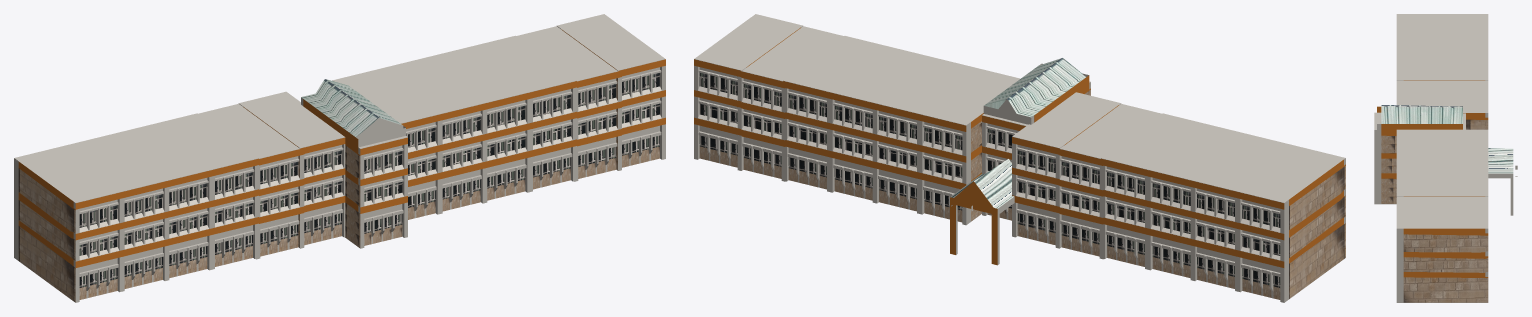
The model's file is electrical.fbx.
3 views of the same model, side by side, from view 1: azimuth 30°, elevation 25°; view 2: azimuth 150°, elevation 25°; view 3: azimuth 270°, elevation 25° (orthographic). The views are drawn at different scales.
Visible parts, largest first — view 1: box.000, box.005, box.006; view 2: box.000, box.005, box.006; view 3: box.005, box.000, box.006.
Boxes of the visible parts, box(x1,y1,x2,y2) form: box.000: box(14, 91, 345, 302); box.005: box(332, 14, 665, 219); box.006: box(301, 79, 407, 248); box.000: box(1012, 92, 1345, 302); box.005: box(694, 14, 1020, 225); box.006: box(950, 58, 1090, 265); box.005: box(1396, 129, 1488, 302); box.000: box(1396, 14, 1488, 129); box.006: box(1374, 105, 1517, 215).
Bounding box in the file's own units: 4957 × 1099 × 1401.
